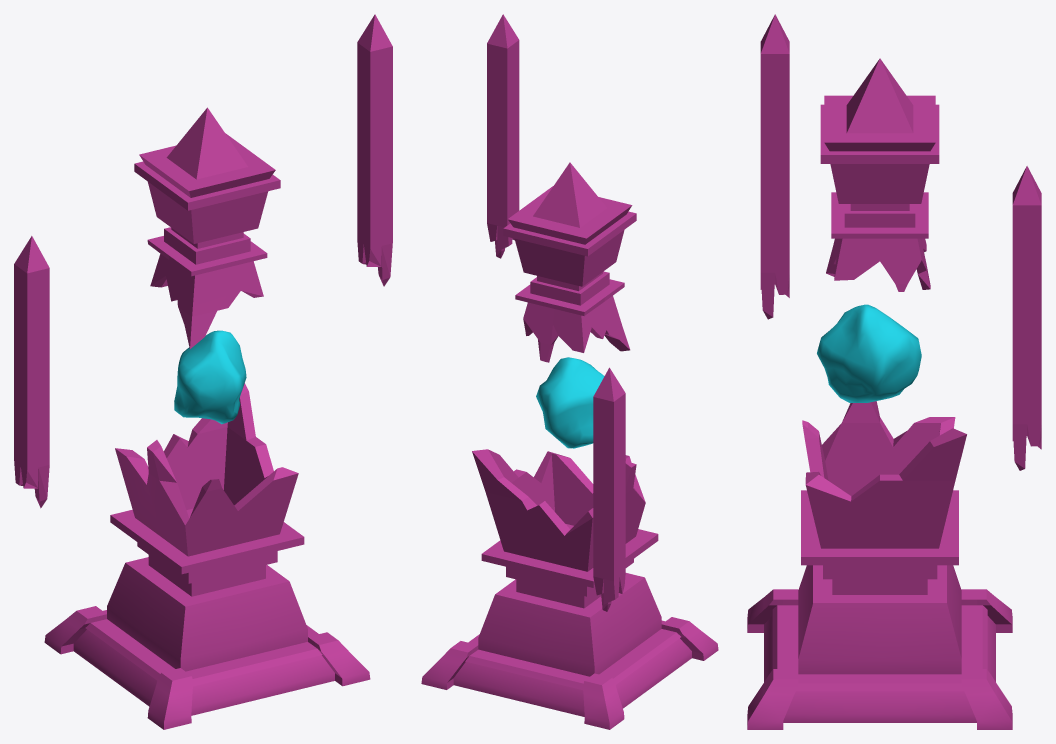
Rendered from SM_ArtifactV3.fbx.
The picture shows the model from 3 angles, left to right: view 1: azimuth 30°, elevation 25°; view 2: azimuth 150°, elevation 25°; view 3: azimuth 270°, elevation 25°; orthographic projection. The views are drawn at different scales.
Parts seen in each view (by area): view 1: SM_ArtifactV3, ROCKGLOWING LOWPOLY; view 2: SM_ArtifactV3, ROCKGLOWING LOWPOLY; view 3: SM_ArtifactV3, ROCKGLOWING LOWPOLY.
Boxes of the visible parts, <box> form: SM_ArtifactV3: <box>14,14,392,729</box>; ROCKGLOWING LOWPOLY: <box>174,330,246,424</box>; SM_ArtifactV3: <box>421,14,718,729</box>; ROCKGLOWING LOWPOLY: <box>536,357,604,448</box>; SM_ArtifactV3: <box>747,14,1041,729</box>; ROCKGLOWING LOWPOLY: <box>817,304,921,402</box>.
Bounding box in the file's own units: 1.97 × 4.86 × 1.79.
